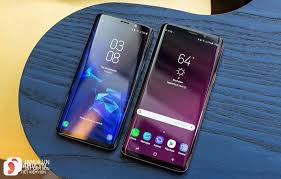samsung: (118, 19, 225, 173)
